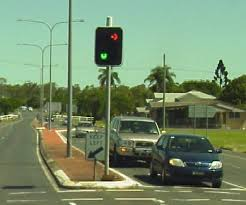signal: (93, 25, 122, 68)
